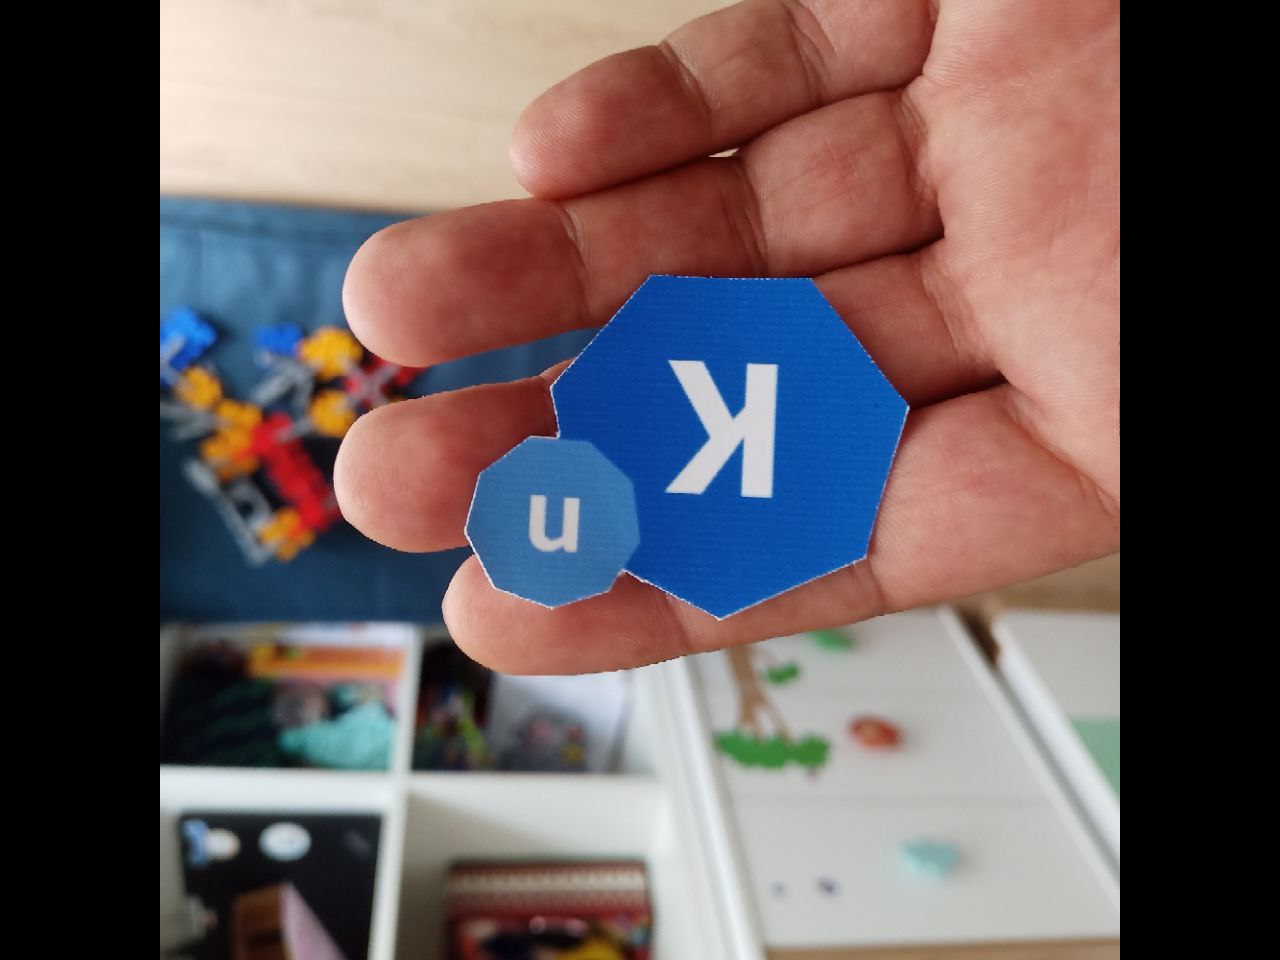knative: (464, 280, 911, 622)
